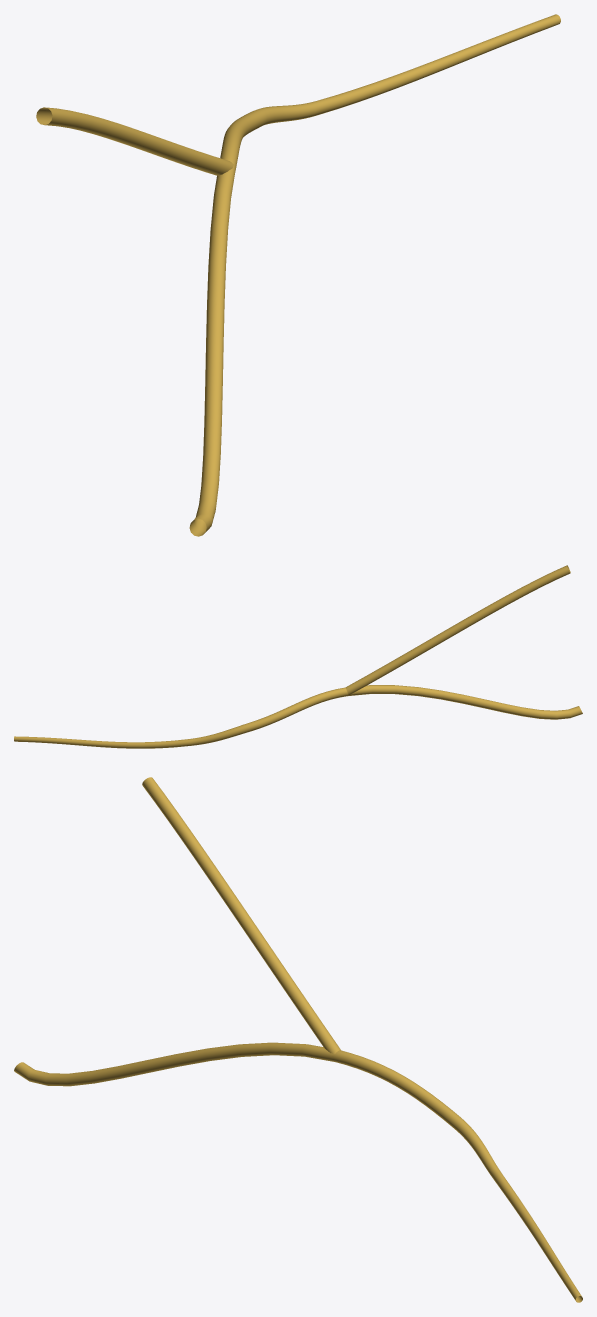
The picture shows the model from 3 angles, top to bottom: view 1: azimuth 30°, elevation 25°; view 2: azimuth 150°, elevation 25°; view 3: azimuth 270°, elevation 25°; orthographic projection. The views are drawn at different scales.
Parts seen in each view (by area): view 1: 左侧梨状肌神经; view 2: 左侧梨状肌神经; view 3: 左侧梨状肌神经.
Part boxes in pixels (bbox=[...]): 左侧梨状肌神经: bbox=[36, 14, 560, 536]; 左侧梨状肌神经: bbox=[14, 565, 582, 748]; 左侧梨状肌神经: bbox=[14, 777, 582, 1302].
Bounding box in the file's own units: 0.0775 × 0.0346 × 0.0646.
